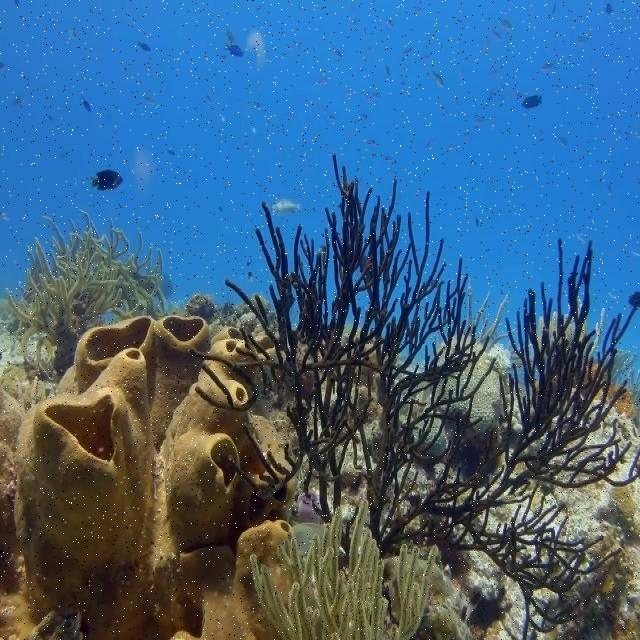fish: (135, 274, 173, 296), (91, 170, 124, 192), (272, 200, 301, 212), (521, 95, 543, 109), (433, 71, 444, 87), (629, 291, 639, 308), (138, 40, 152, 51), (82, 97, 92, 112), (541, 63, 555, 72), (224, 43, 241, 50), (229, 51, 243, 56)
reefs: (192, 154, 638, 637), (0, 315, 297, 639), (249, 500, 475, 639), (6, 209, 168, 373)
